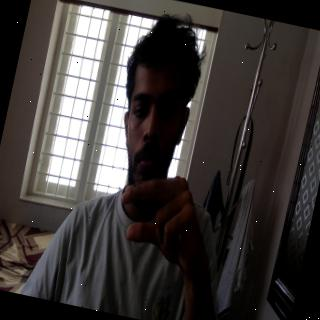No: (78, 142, 228, 316)
